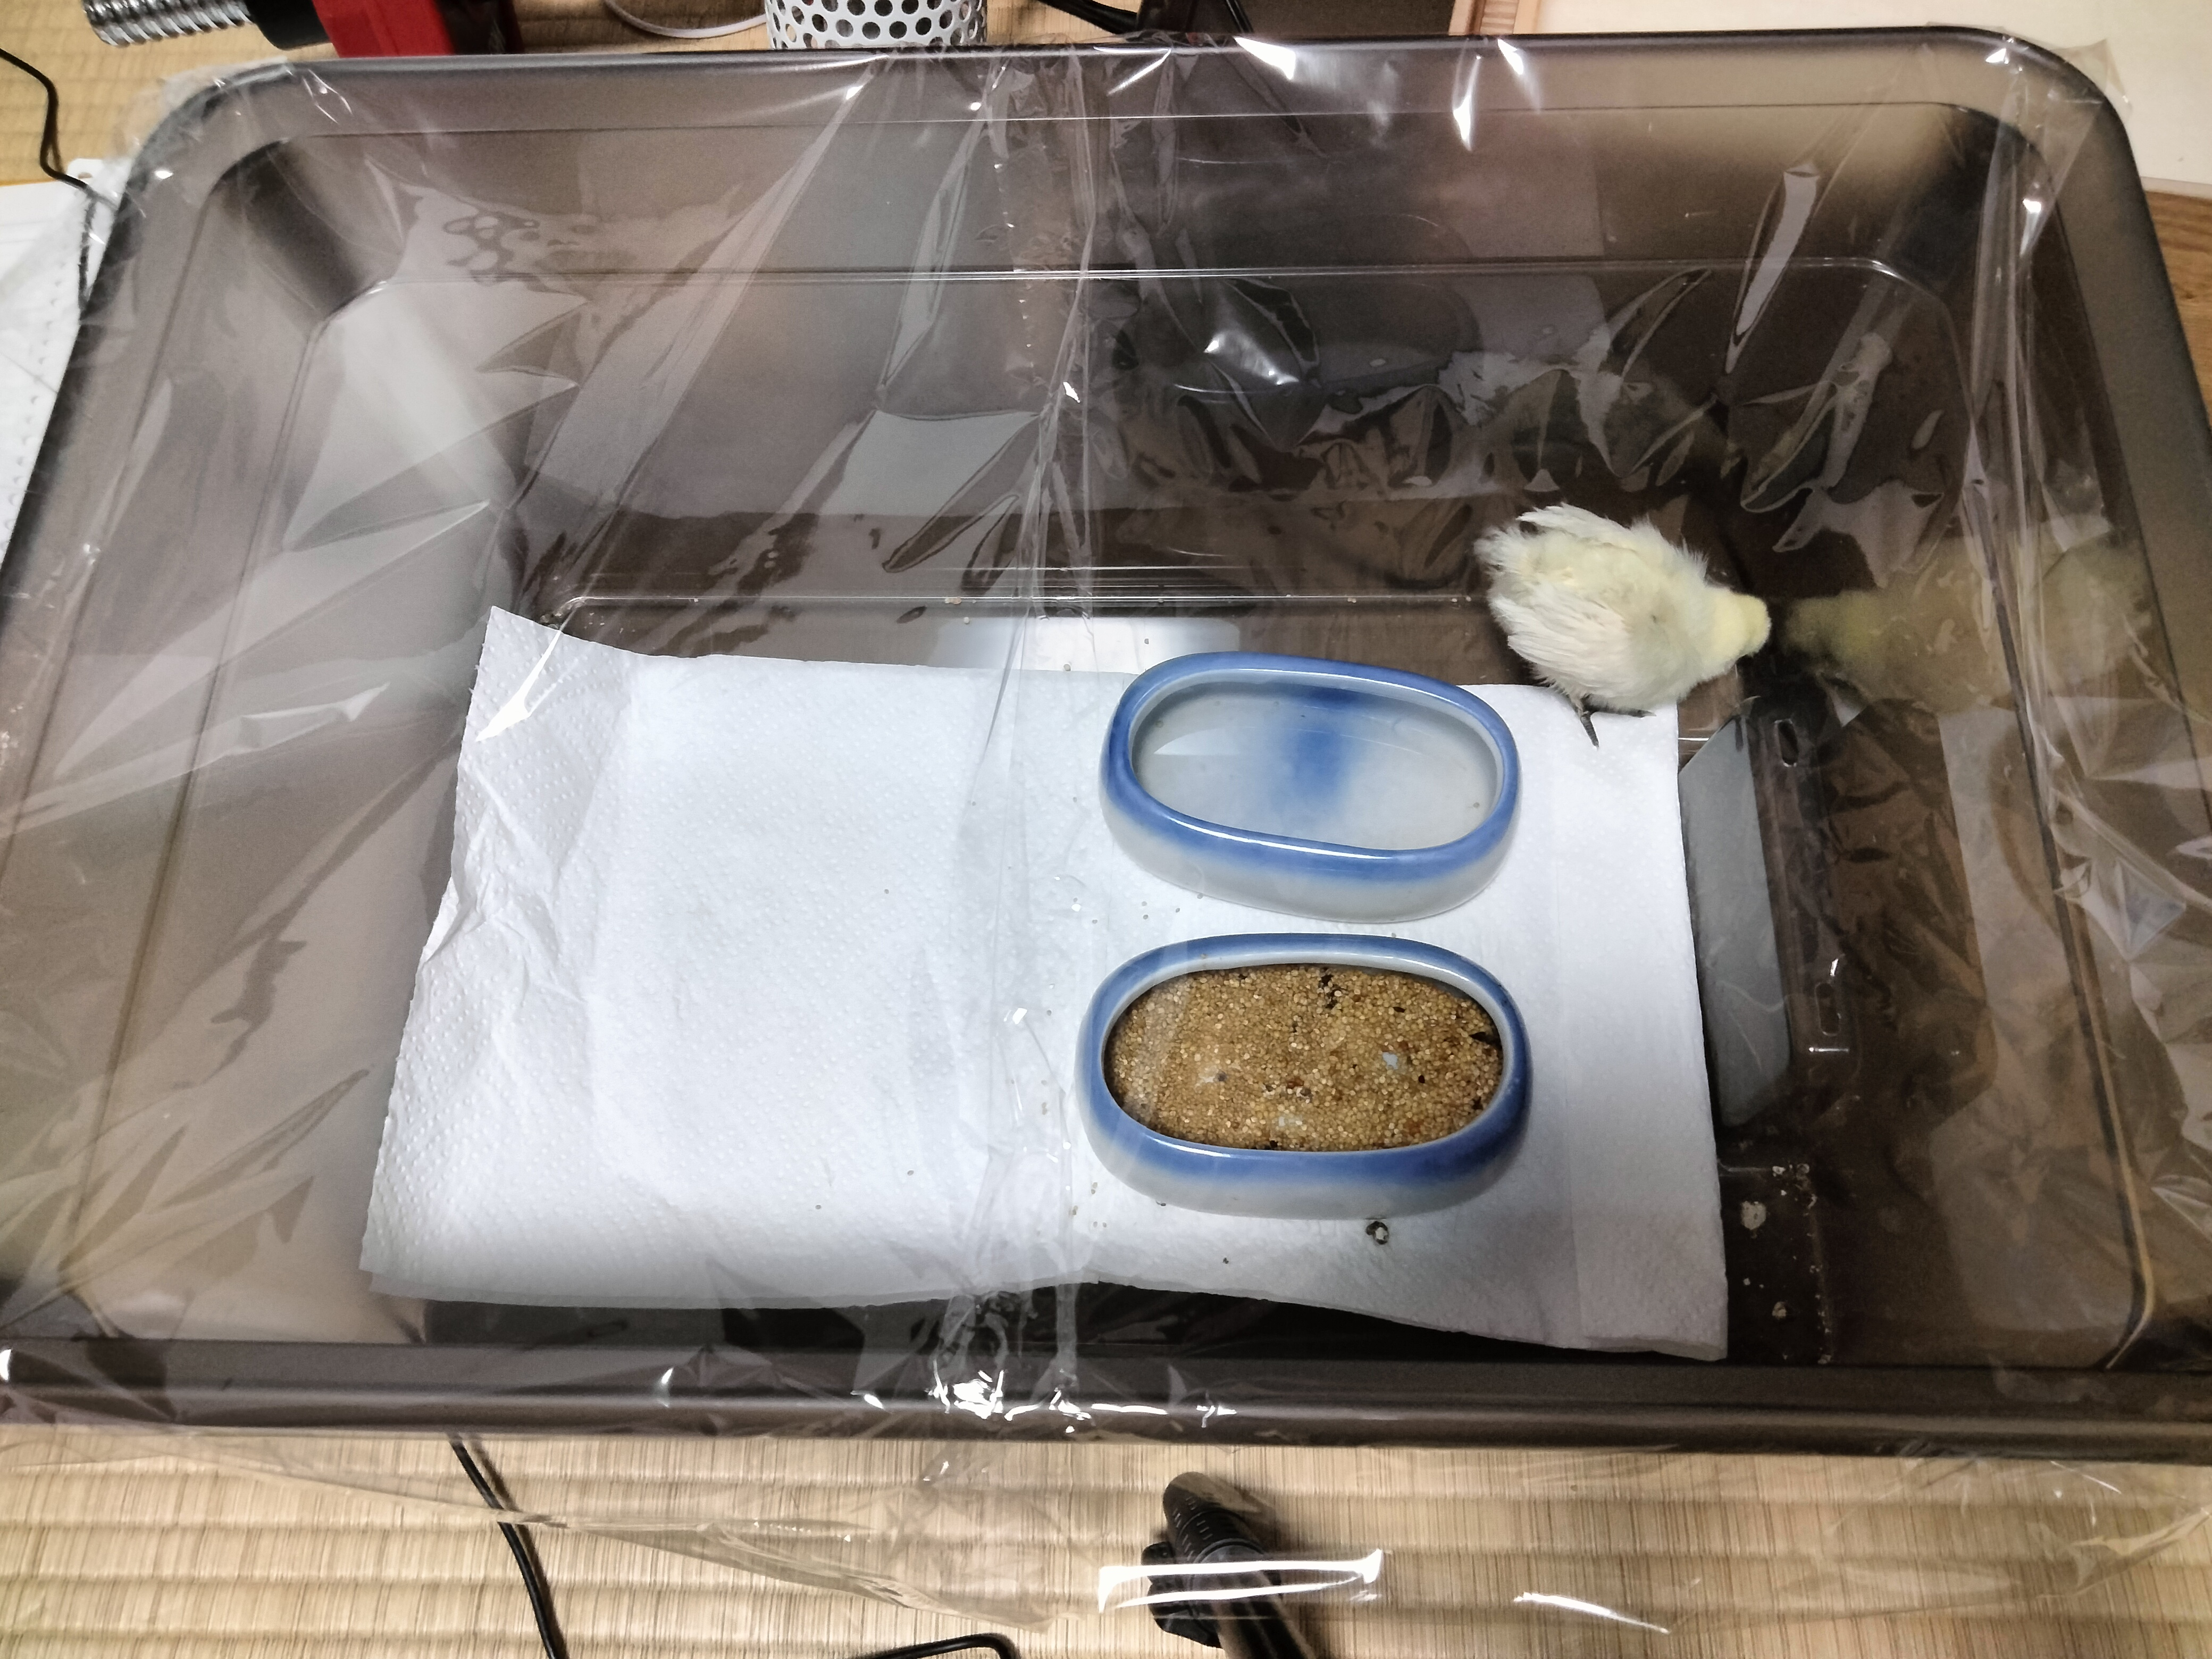shiro: (1430, 441, 1796, 765)
